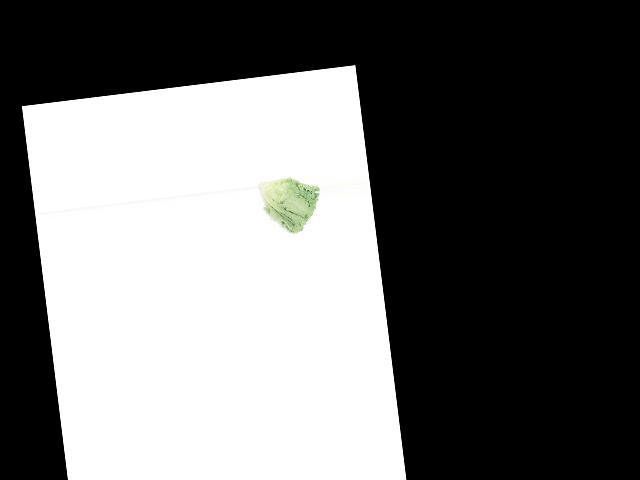lettuce: (255, 169, 325, 242)
